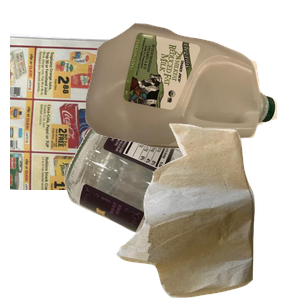glass: (62, 120, 300, 300)
paper: (10, 31, 214, 211)
plastic: (83, 21, 300, 162)
trash: (114, 121, 300, 300)
